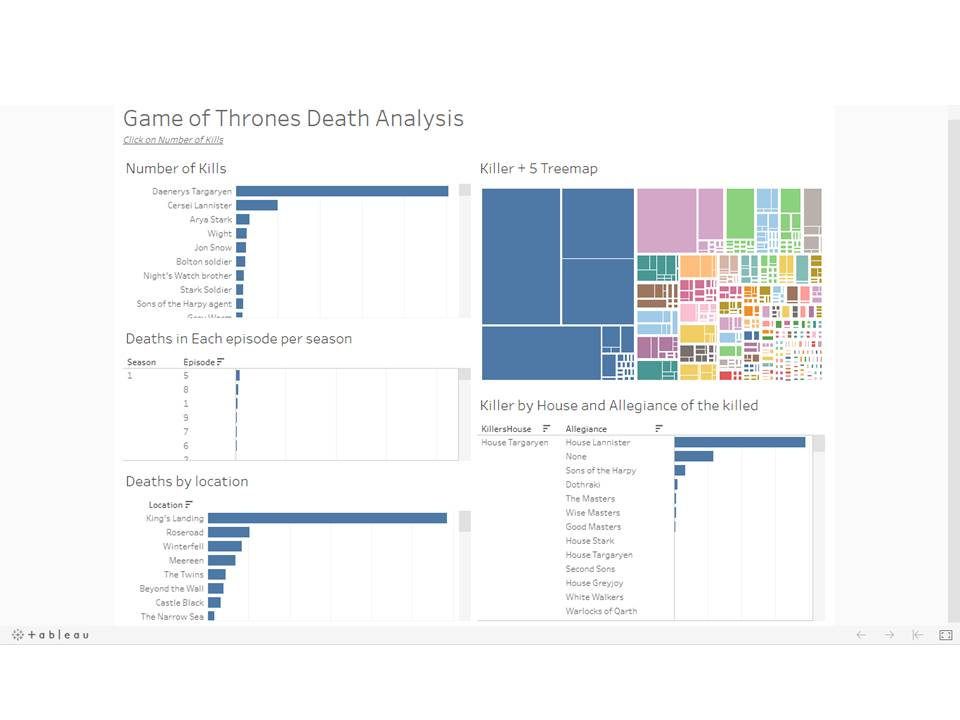

This screenshot's page, from the dashboard's own definition file:
{"tool":"tableau","page":{"name":"Dashboard 1","canvas":[1024,768],"ordinal":0},"visuals":[{"type":"worksheet","box":[0,0,1024,768]},{"type":"worksheet","box":[8,8,1008,79]},{"type":"worksheet","param":"horz","box":[8,87,1008,673]},{"type":"worksheet","box":[8,87,1008,673]},{"type":"worksheet","title":"Number of Kills","mark":"Automatic","rows":["Killer"],"cols":["Sheet 1 - game-of-thones-deaths_50205038C00A4482B6D7565A1C1C"],"box":[8,87,504,241.6]},{"type":"worksheet","title":"Killer + 5 Treemap","mark":"Automatic","box":[512,87,504,336.5]},{"type":"worksheet","title":"Deaths in Each episode per season","mark":"Automatic","rows":["Season","Episode"],"cols":["Sheet 1 - game-of-thones-deaths_50205038C00A4482B6D7565A1C1C"],"box":[8,328.6,504,203.2]},{"type":"worksheet","title":"Killer by House and Allegiance of the killed","mark":"Automatic","rows":["Killers House","Allegiance"],"cols":["Sheet 1 - game-of-thones-deaths_50205038C00A4482B6D7565A1C1C"],"box":[512,423.5,504,336.5]},{"type":"worksheet","title":"Deaths by location","mark":"Automatic","rows":["Location"],"cols":["Sheet 1 - game-of-thones-deaths_50205038C00A4482B6D7565A1C1C"],"box":[8,531.8,504,228.2]}]}

Visuals, with their boxes on the page's 1024x768 design canvas (x1, y1, x2, y2). These are canvas units, not pixel positions in the 960x720 screenshot, which may show the page scaled, cropped or inside an application window:
worksheet: left=0, top=0, right=1024, bottom=768
worksheet: left=8, top=8, right=1016, bottom=87
worksheet: left=8, top=87, right=1016, bottom=760
worksheet: left=8, top=87, right=1016, bottom=760
"Number of Kills" worksheet: left=8, top=87, right=512, bottom=329
"Killer + 5 Treemap" worksheet: left=512, top=87, right=1016, bottom=424
"Deaths in Each episode per season" worksheet: left=8, top=329, right=512, bottom=532
"Killer by House and Allegiance of the killed" worksheet: left=512, top=424, right=1016, bottom=760
"Deaths by location" worksheet: left=8, top=532, right=512, bottom=760
